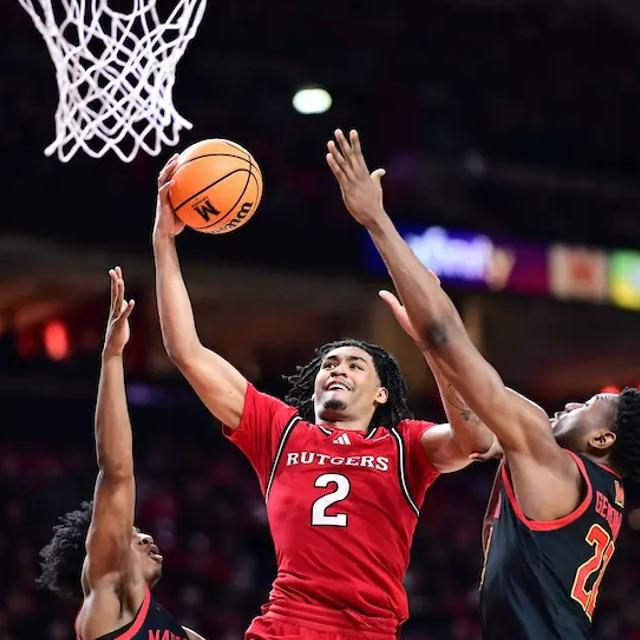basketball: (171, 139, 263, 232)
hoop: (19, 0, 225, 155)
